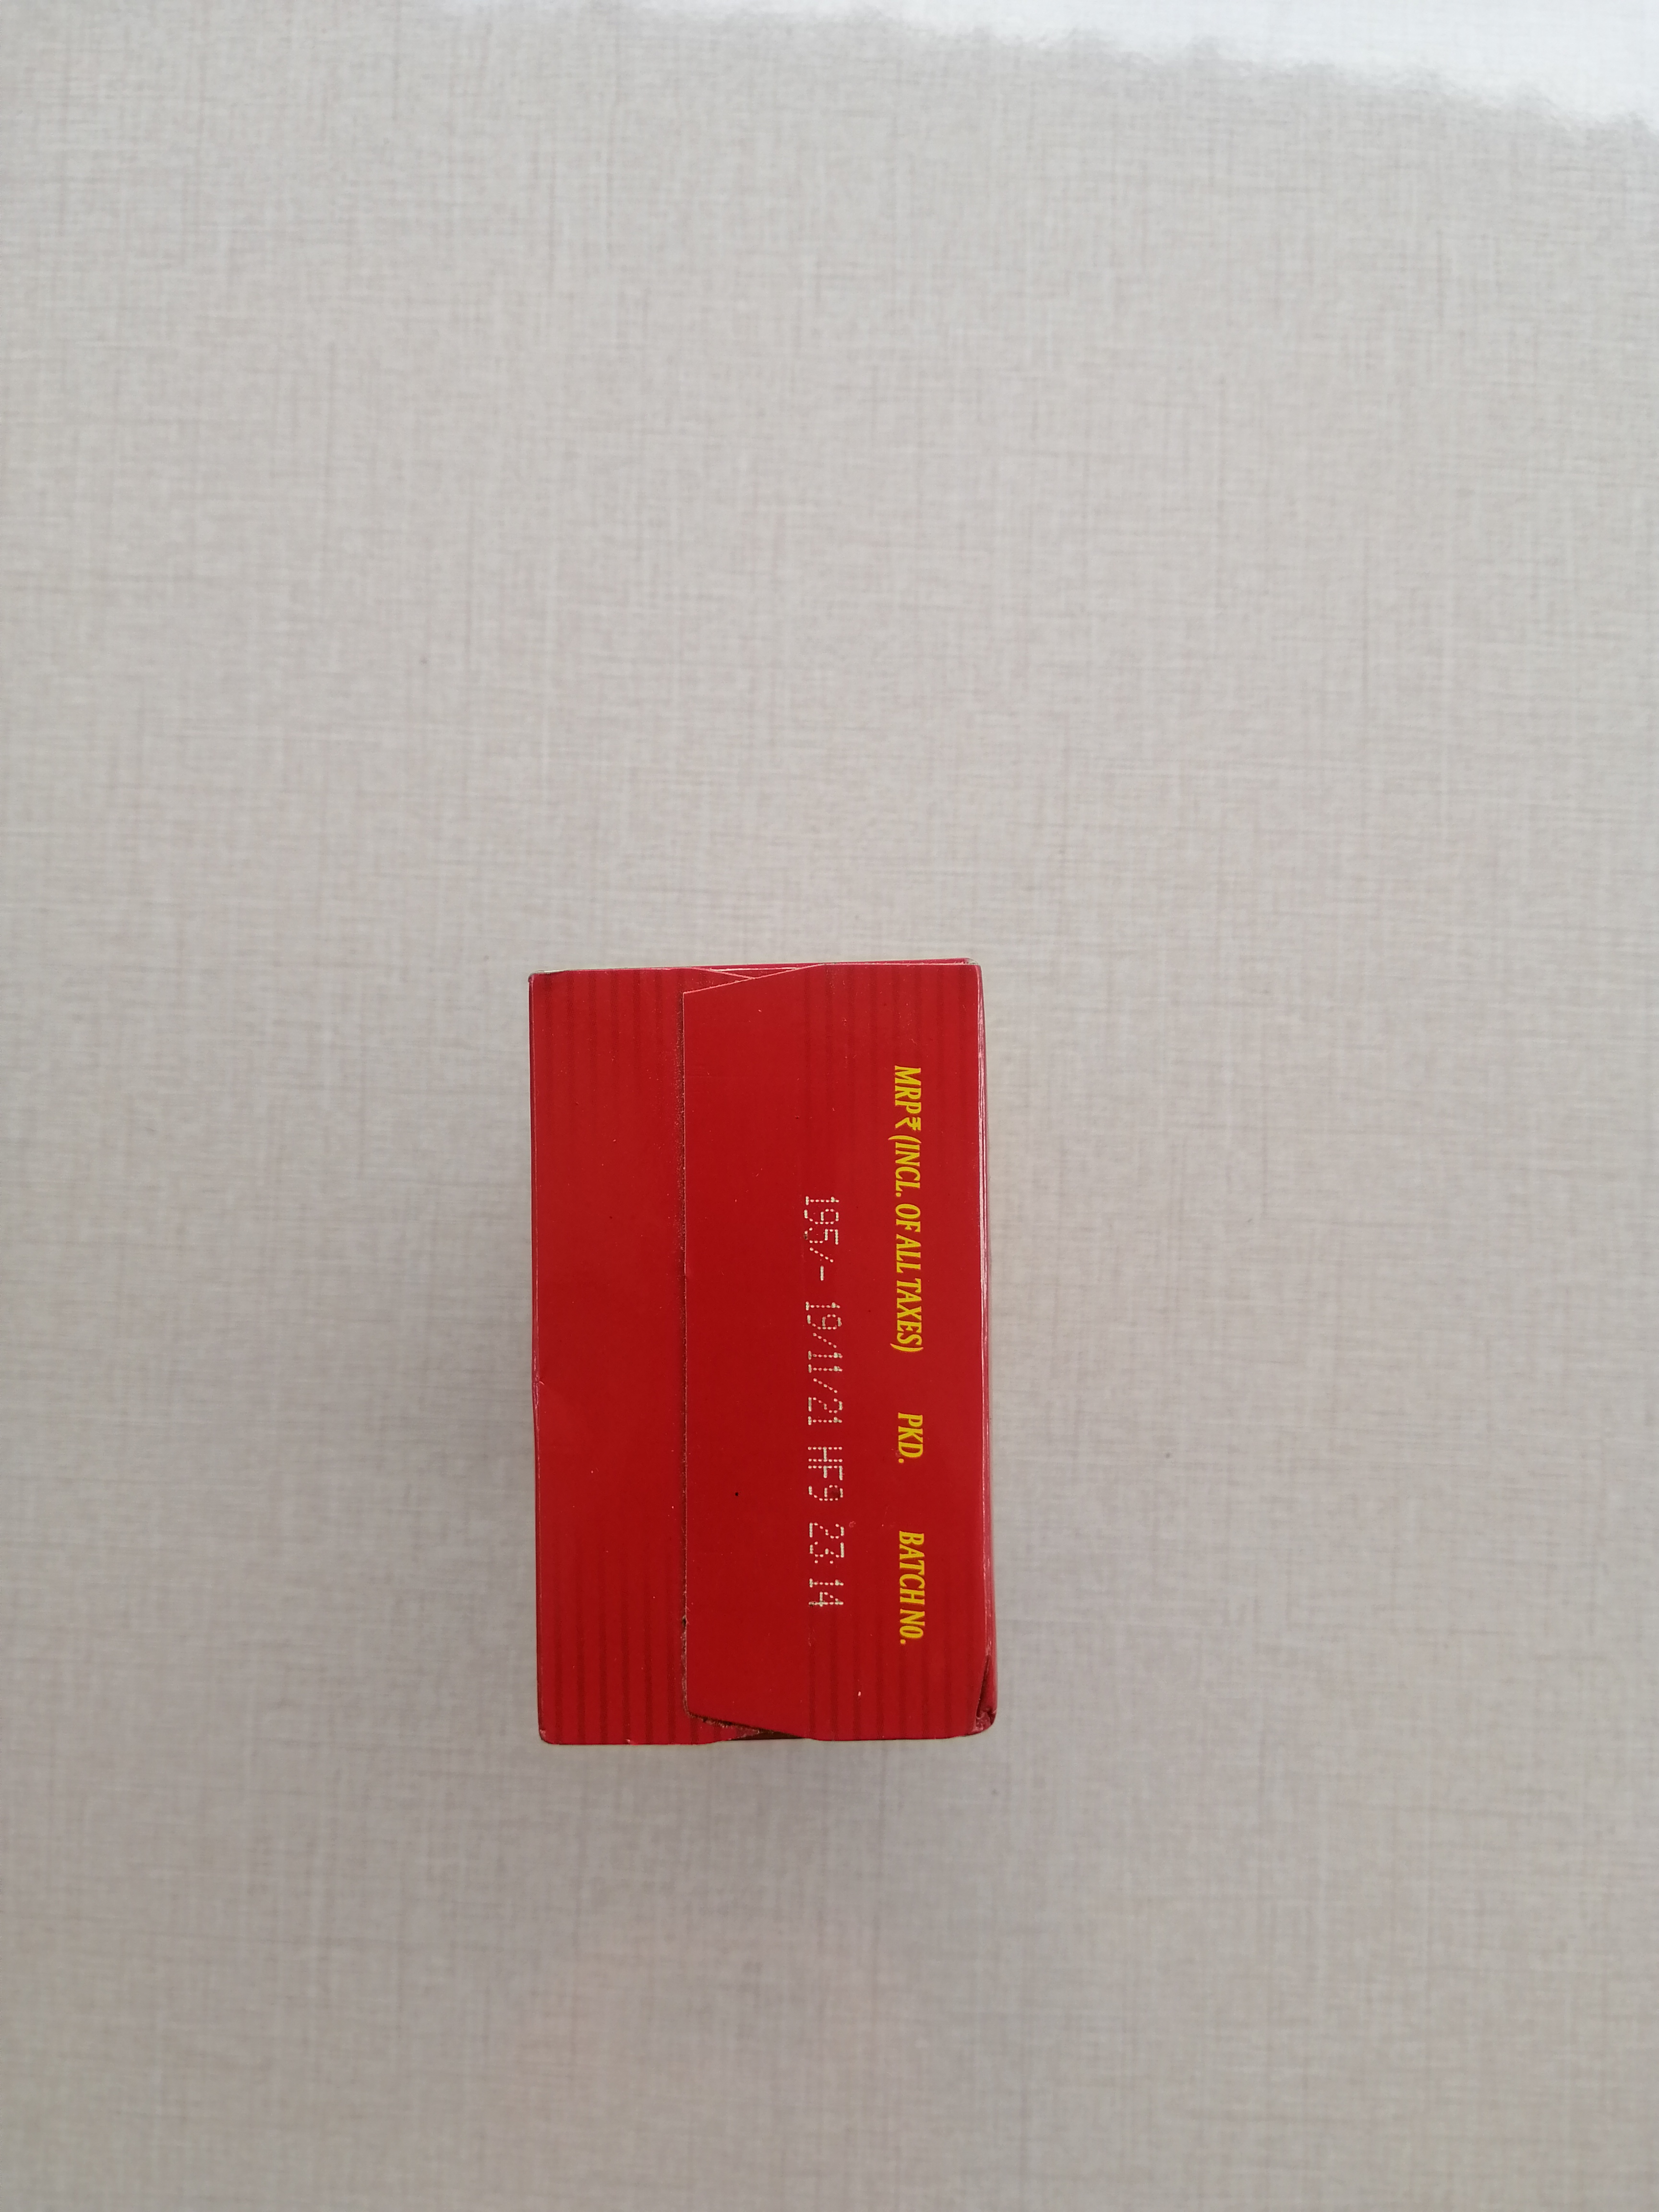3roses_top_star: (525, 967, 999, 1743)
